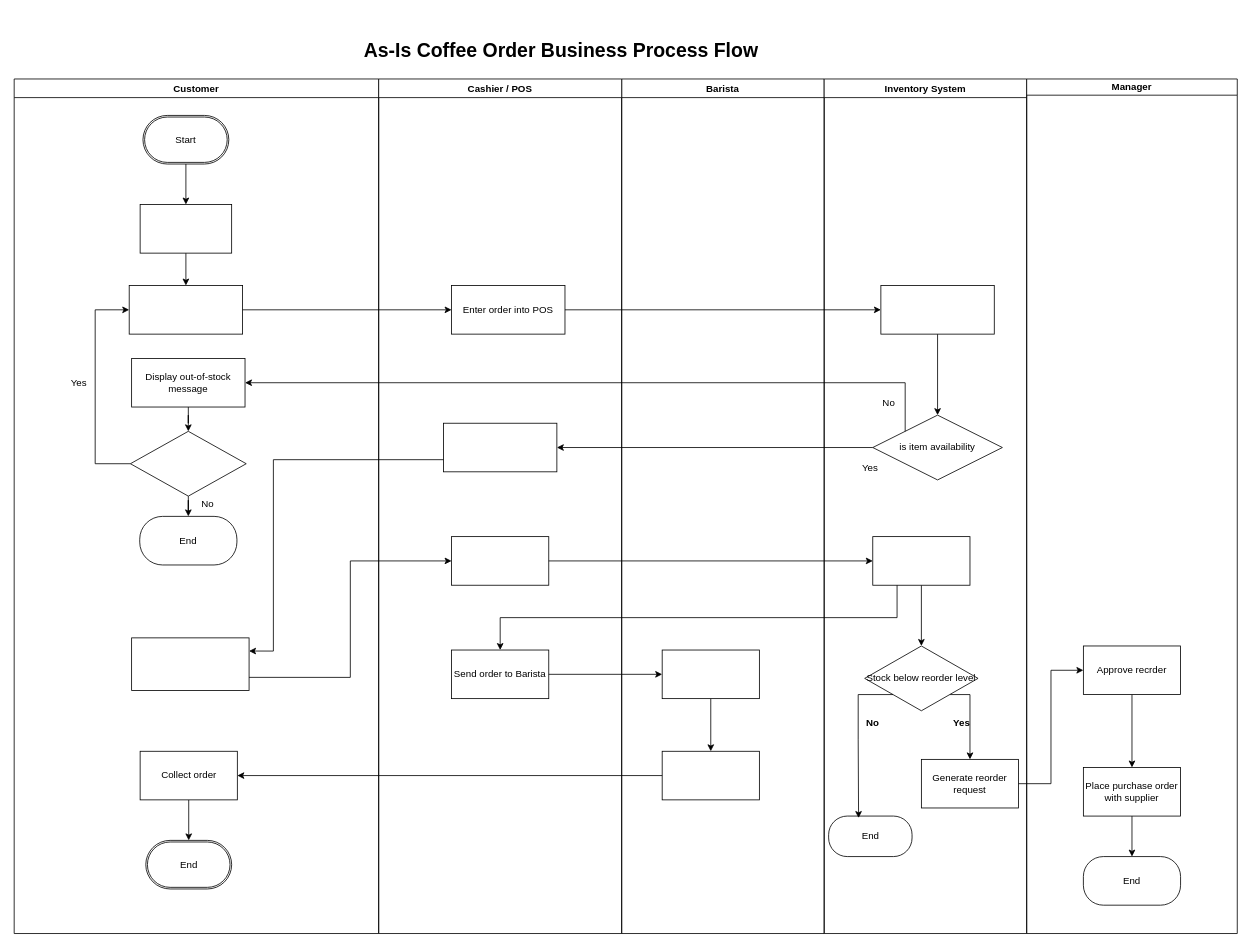
This 1251x948 diagram has some shape labels left out. Here are the shapes that lost their labels. From the top down, the centre of each, then its label:
the point at 185,228: View the menu
the point at 185,309: Place order
the point at 937,309: Check item availiable
the point at 188,463: Choose another item
the point at 500,447: Confirm order
the point at 500,560: Record transaction
the point at 921,560: Update inventory level
the point at 190,664: Make payment
the point at 710,674: Prepare order
the point at 710,775: Mark order as ready
